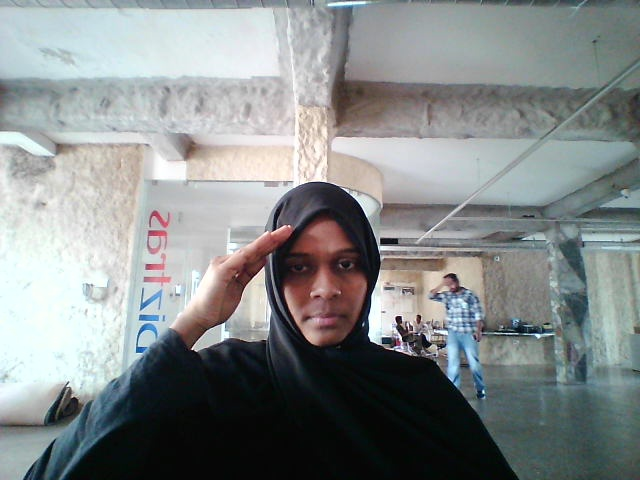HELLO: (146, 202, 296, 363)
